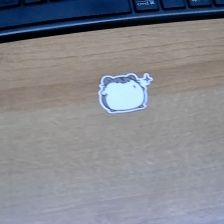mouse: (95, 72, 154, 115)
